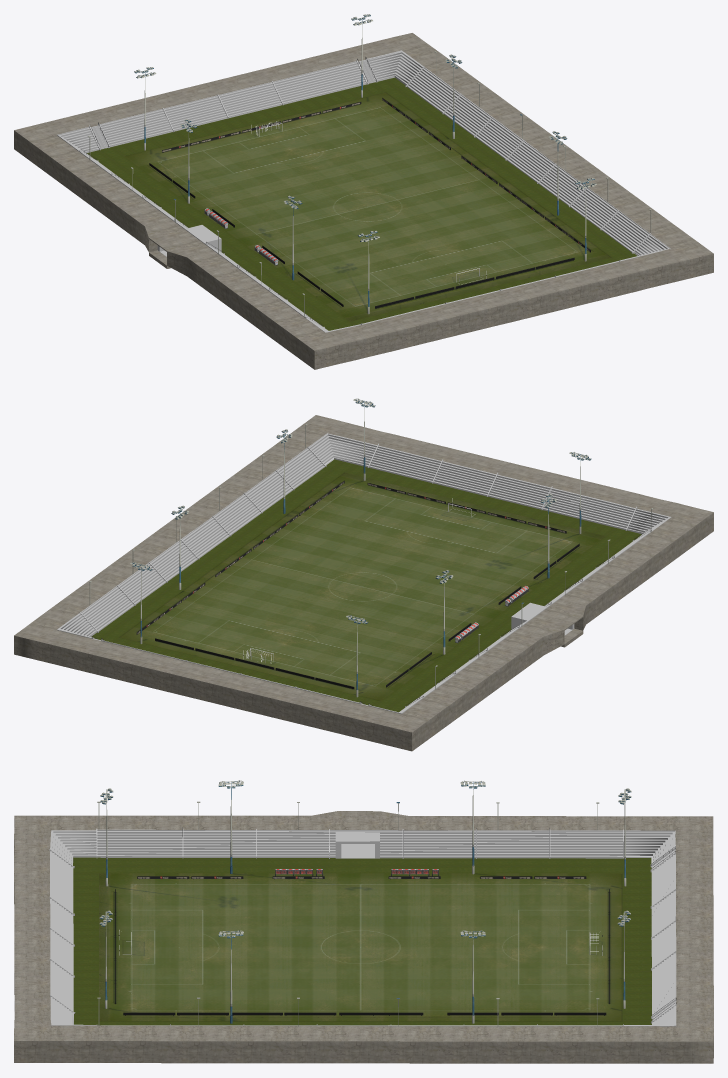
3 renders of one model, top to bottom at view 1: azimuth 30°, elevation 25°; view 2: azimuth 150°, elevation 25°; view 3: azimuth 270°, elevation 25°, orthographic. The views are drawn at different scales.
Parts seen in each view (by area): view 1: field, outside, seats_1_2, field_2, lights; view 2: field, outside, seats_1_2, field_2, lights; view 3: field, outside, seats_1_2, field_2, lights, Cube, Cube_1.
Boxes of the visible parts, bbox=[...] form: field: bbox=[124, 92, 611, 321]; outside: bbox=[14, 33, 713, 369]; seats_1_2: bbox=[57, 50, 670, 332]; field_2: bbox=[87, 77, 636, 330]; lights: bbox=[134, 14, 596, 314]; field: bbox=[119, 472, 605, 701]; outside: bbox=[14, 415, 713, 751]; seats_1_2: bbox=[57, 432, 671, 713]; field_2: bbox=[91, 459, 641, 712]; lights: bbox=[130, 398, 591, 697]; field: bbox=[99, 873, 622, 1021]; outside: bbox=[14, 811, 713, 1063]; seats_1_2: bbox=[49, 828, 676, 1026]; field_2: bbox=[73, 857, 652, 1025]; lights: bbox=[99, 780, 631, 1023]; Cube: bbox=[335, 832, 379, 858]; Cube_1: bbox=[341, 844, 374, 858].
Size of the model in its own units: 1313 by 263 by 1684.
16 materials, 13 textured.
